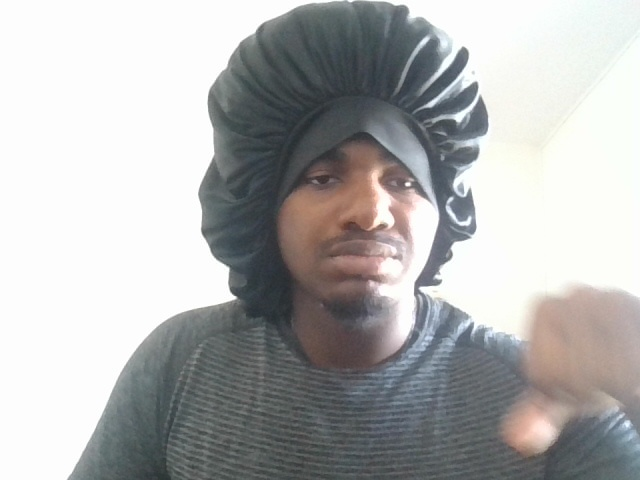Yes: (492, 246, 640, 480)
